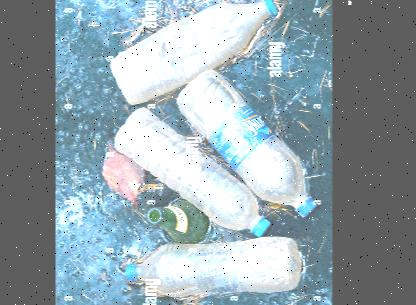Plastic Bottle: (183, 68, 318, 223), (123, 237, 310, 305), (102, 0, 278, 64), (96, 98, 171, 197)
